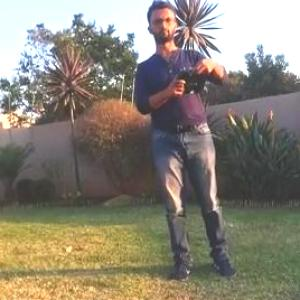follow: (132, 0, 245, 285)
